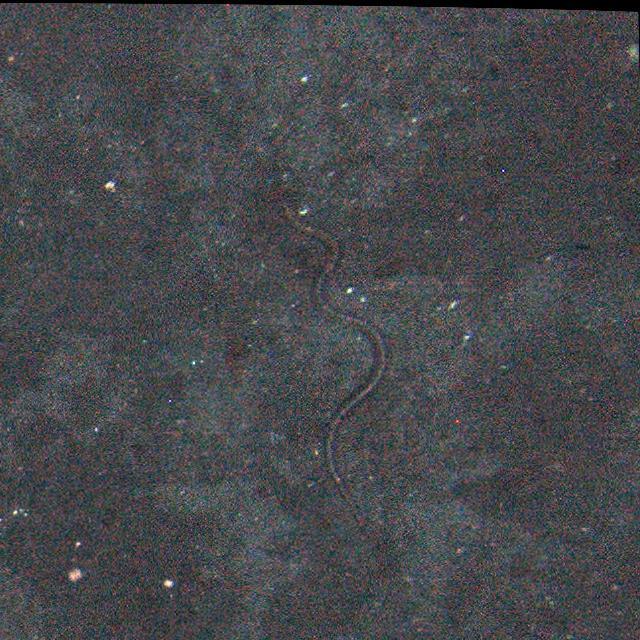eel: (282, 204, 383, 526)
